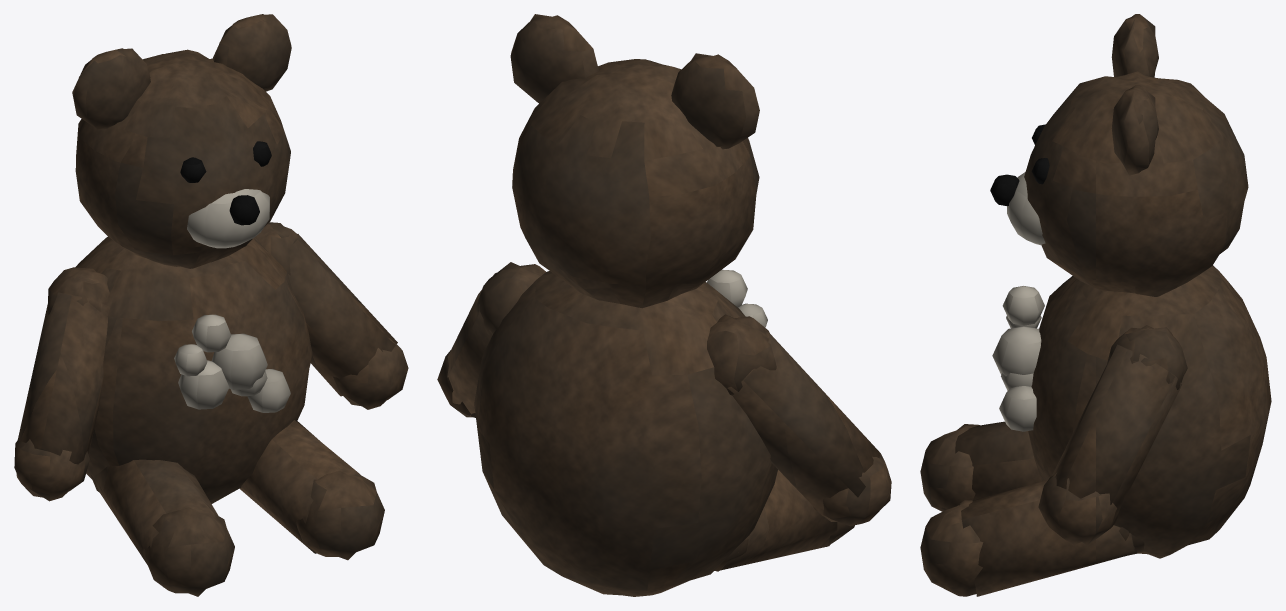
Rendered from T01_teddy_bear_v3.glb.
3 views of the same model, side by side, from view 1: azimuth 30°, elevation 25°; view 2: azimuth 150°, elevation 25°; view 3: azimuth 270°, elevation 25° (orthographic). The views are drawn at different scales.
Visible parts, largest first — view 1: T01_teddy_bear_v3; view 2: T01_teddy_bear_v3; view 3: T01_teddy_bear_v3.
Boxes of the visible parts, box(x1,y1,x2,y2) form: T01_teddy_bear_v3: box(14, 14, 408, 596); T01_teddy_bear_v3: box(437, 14, 891, 596); T01_teddy_bear_v3: box(920, 14, 1271, 596).
Bounding box in the file's own units: 0.4202 × 0.5 × 0.3183.
Materials: 3 (3 with a texture image).
